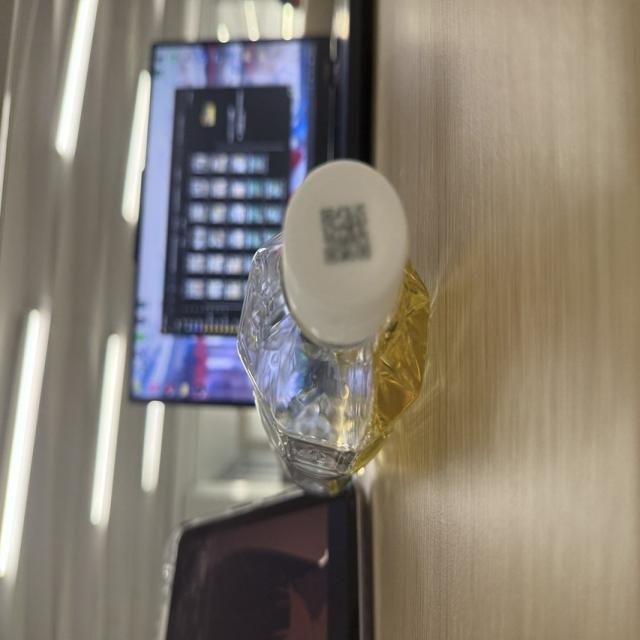low: (239, 160, 428, 492)
